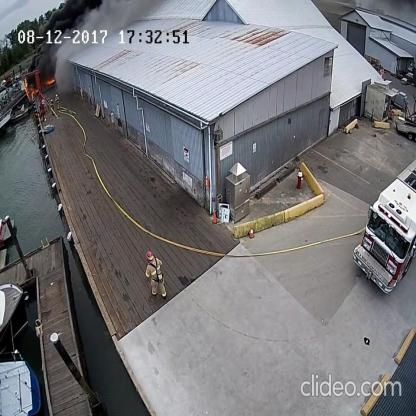fire: (23, 76, 40, 104), (44, 77, 58, 88)
